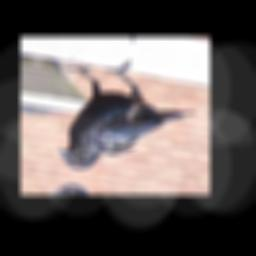Crow: (52, 50, 202, 187)
